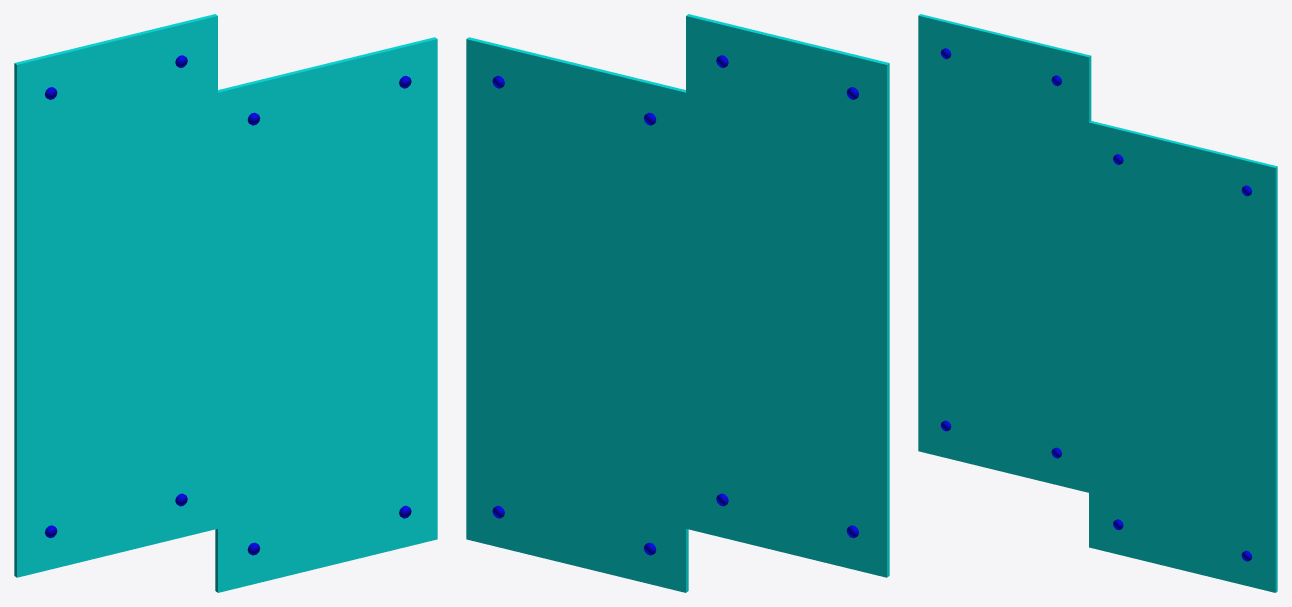
The model's file is cuadro_14_low.fbx.
3 renders of one model, left to right at view 1: azimuth 30°, elevation 25°; view 2: azimuth 150°, elevation 25°; view 3: azimuth 330°, elevation 25°, orthographic. The views are drawn at different scales.
Visible parts, largest first — view 1: pCube15, pCube14; view 2: pCube15, pCube14; view 3: pCube15, pCube14.
Boxes of the visible parts, x1,y1,x2,y2 form: pCube15: (215, 37, 437, 592); pCube14: (14, 14, 217, 577); pCube15: (466, 37, 688, 592); pCube14: (686, 14, 889, 577); pCube15: (1089, 121, 1277, 592); pCube14: (918, 14, 1091, 492).
Size of the model in its own units: 91 by 119 by 2.
